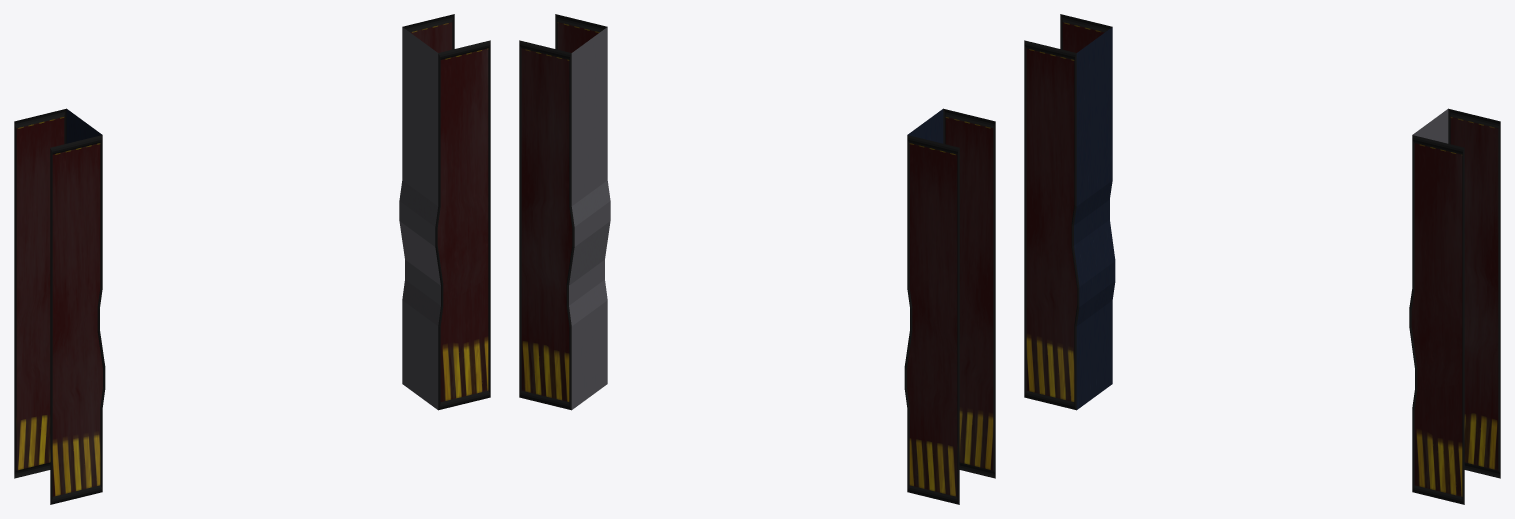
The model's file is door-frame-locked_000008.obj.
3 renders of one model, left to right at view 1: azimuth 30°, elevation 25°; view 2: azimuth 150°, elevation 25°; view 3: azimuth 330°, elevation 25°, orthographic.
Visible parts, largest first — view 1: Door.Left_Cube.007, Door.Right_Cube.006; view 2: Door.Left_Cube.007, Door.Right_Cube.006; view 3: Door.Left_Cube.007, Door.Right_Cube.006.
Boxes of the visible parts, x1,y1,x2,y2 form: Door.Left_Cube.007: [399, 14, 490, 410]; Door.Right_Cube.006: [14, 108, 105, 504]; Door.Left_Cube.007: [519, 14, 610, 410]; Door.Right_Cube.006: [904, 108, 995, 504]; Door.Left_Cube.007: [1409, 108, 1500, 504]; Door.Right_Cube.006: [1024, 14, 1115, 410].
Bounding box in the file's own units: 6.78 × 5.26 × 0.9998.
Materials: 6 (6 with a texture image).
